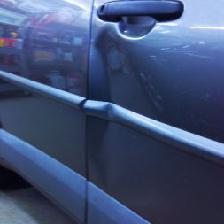dent: (89, 29, 129, 58)
